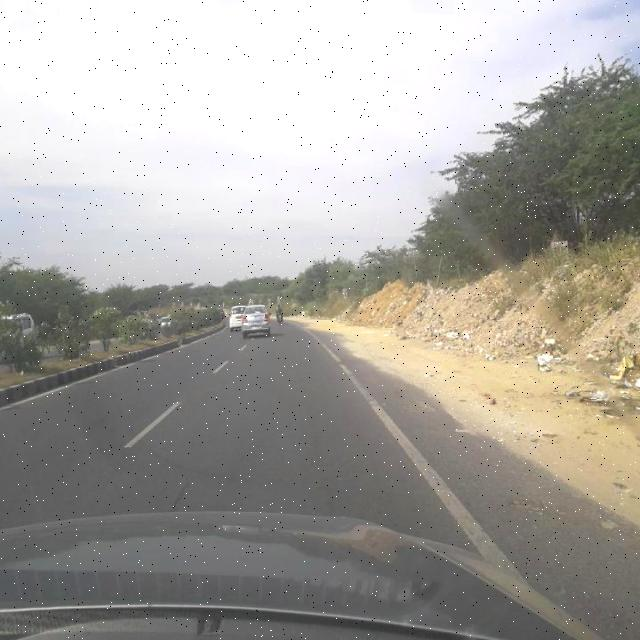D00: (170, 473, 193, 511)
